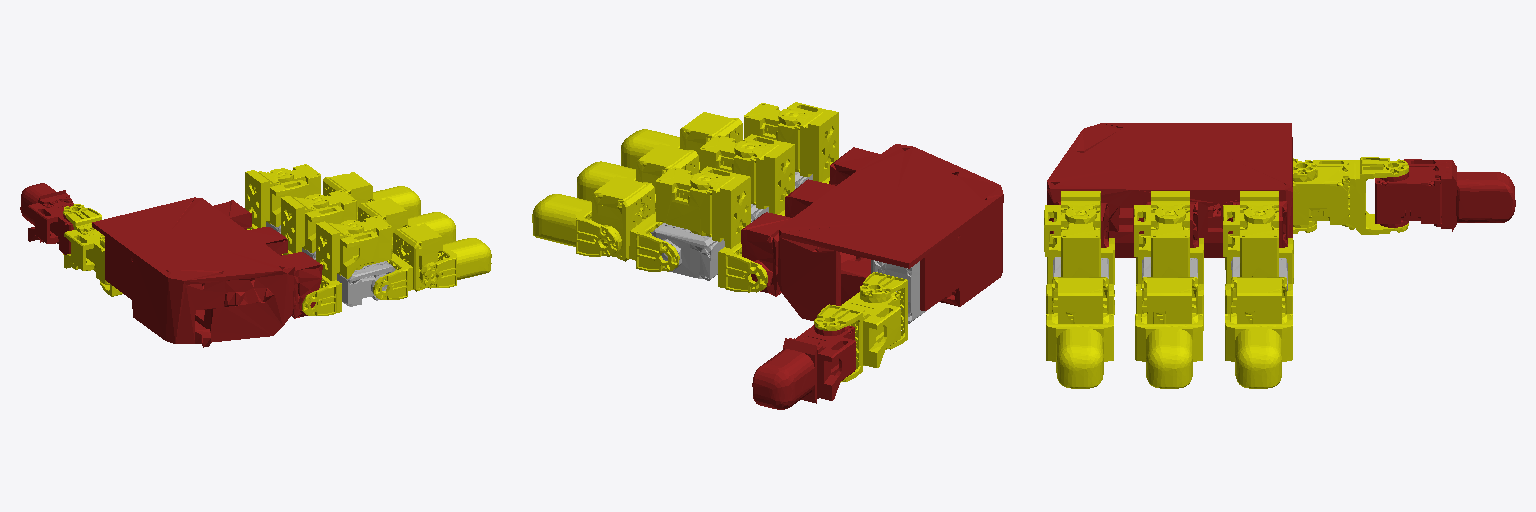
--- Facts derived from the render (not from the file) ---
The picture shows the robot from 3 angles, left to right: view 1: azimuth 30°, elevation 25°; view 2: azimuth 150°, elevation 25°; view 3: azimuth 270°, elevation 25°; orthographic projection.
Model leap with 17 links and 16 joints (16 revolute), rooted at hand_base_link, posed all joints at 0.
Visible links, largest first — view 1: hand_base_link, mcp_joint_3, dip_3, mcp_joint, mcp_joint_2, thumb_fingertip, fingertip_3, thumb_dip, pip_3, dip_2, dip, fingertip_2 (+1 smaller); view 2: hand_base_link, mcp_joint, thumb_fingertip, dip, mcp_joint_3, mcp_joint_2, thumb_dip, fingertip, pip, dip_2, dip_3, thumb_pip (+3 smaller); view 3: hand_base_link, thumb_fingertip, thumb_dip, mcp_joint_3, mcp_joint, mcp_joint_2, fingertip_3, fingertip, fingertip_2, dip_3, dip_2, dip.
Link boxes in pixels (left/top/right/bottom): hand_base_link: left=92, top=197, right=322, bottom=347; mcp_joint_3: left=302, top=216, right=391, bottom=315; dip_3: left=373, top=223, right=442, bottom=299; mcp_joint: left=245, top=164, right=320, bottom=229; mcp_joint_2: left=281, top=190, right=356, bottom=254; thumb_fingertip: left=20, top=183, right=73, bottom=254; fingertip_3: left=422, top=238, right=491, bottom=288; thumb_dip: left=63, top=204, right=109, bottom=284; pip_3: left=337, top=261, right=395, bottom=306; dip_2: left=358, top=198, right=407, bottom=240; dip: left=323, top=172, right=372, bottom=214; fingertip_2: left=392, top=212, right=455, bottom=253; hand_base_link: left=741, top=144, right=1003, bottom=320; mcp_joint: left=656, top=166, right=767, bottom=292; thumb_fingertip: left=752, top=324, right=855, bottom=409; dip: left=592, top=176, right=679, bottom=271; mcp_joint_3: left=744, top=102, right=838, bottom=183; mcp_joint_2: left=700, top=134, right=794, bottom=215; thumb_dip: left=814, top=292, right=900, bottom=382; fingertip: left=532, top=194, right=641, bottom=256; pip: left=651, top=223, right=724, bottom=280; dip_2: left=636, top=144, right=698, bottom=196; dip_3: left=680, top=112, right=742, bottom=164; thumb_pip: left=860, top=272, right=907, bottom=349; hand_base_link: left=1047, top=123, right=1292, bottom=257; thumb_fingertip: left=1375, top=159, right=1515, bottom=231; thumb_dip: left=1293, top=157, right=1408, bottom=234; mcp_joint_3: left=1044, top=191, right=1114, bottom=284; mcp_joint: left=1223, top=191, right=1293, bottom=283; mcp_joint_2: left=1134, top=191, right=1203, bottom=288; fingertip_3: left=1046, top=314, right=1113, bottom=388; fingertip: left=1225, top=314, right=1292, bottom=388; fingertip_2: left=1135, top=314, right=1202, bottom=388; dip_3: left=1046, top=277, right=1114, bottom=323; dip_2: left=1136, top=277, right=1203, bottom=330; dip: left=1225, top=277, right=1292, bottom=323.
Size in the robot's own frame: 0.2325 by 0.2396 by 0.0632 metres.
17 mesh visuals loaded from 8 distinct referenced files (8 binary STL).

robot.urdf — leap:
<robot name="leap">
  <link name="hand_base_link">
    <visual>
      <origin xyz="-0.020095249652862544332 0.025757756134899473244 -0.034722403578460216134" rpy="0 -0 0" />
      <geometry>
        <mesh filename="package://robot_models/meshes/leap_simplified/palm_lower.stl"/>
      </geometry>
      <material name="palm_lower_material">
        <color rgba="0.60392156862745094426 0.14901960784313725283 0.14901960784313725283 1.0"/>
      </material>
    </visual>
    <collision>
      <origin xyz="-0.04859524965286255 -0.03710692886510053 -0.011722403528460216" rpy="0 -0 0" />
      <geometry>
        <box size="0.10300000000000001 0.12572937 0.0460000001"/>
      </geometry>
    </collision>
    <inertial>
      <origin xyz="0 0 0" rpy="0 0 0"/>
      <mass value="0.237" />
      <inertia ixx="0.000354094" ixy="-0.000001193" ixz="-0.000002445" iyy="0.000260915" iyz="-0.000002905" izz="0.000529257" />
    </inertial>
  </link>

  <link name="mcp_joint">
    <visual>
      <origin xyz="0.0084069022611744960438 0.0077662438597169954416 0.014657354985032912051" rpy="1.6375789613220999807e-15 -1.0210473302491019535e-30 1.7177968783327987474e-31" />
      <geometry>
        <mesh filename="package://robot_models/meshes/leap_simplified/mcp_joint.stl"/>
      </geometry>
      <material name="mcp_joint_material">
        <color rgba="0.86666666666666669627 0.86666666666666669627 0.050980392156862744391 1.0"/>
      </material>
    </visual>
    <collision>
      <origin xyz="-0.027217272738825505 0.039799998859716995 0.018749999985032913" rpy="1.6375789613220999807e-15 -1.0210473302491019535e-30 1.7177968783327987474e-31" />
      <geometry>
        <box size="0.031565449999999995 0.04559999 0.02850001"/>
      </geometry>
    </collision>
    <collision>
      <origin xyz="0 0.006531743859716996 0.014499999985032912" rpy="1.6375789613220999807e-15 -1.0210473302491019535e-30 1.7177968783327987474e-31" />
      <geometry>
        <box size="0.02 0.02893652 0.03459999"/>
      </geometry>
    </collision>
    <inertial>
      <origin xyz="0 0 0" rpy="0 0 0"/>
      <mass value="0.044" />
      <inertia ixx="0.000011499" ixy="0.000003049" ixz="0.000000121" iyy="0.000007796" iyz="0.000000112" izz="0.000014759" />
    </inertial>
  </link>

  <link name="pip">
    <visual>
      <origin xyz="0.0096433630922713280131 0.00029999999999998951117 0.00078403401041737645627" rpy="-1.570796326794896558 -1.570796326794896336 0" />
      <geometry>
        <mesh filename="package://robot_models/meshes/leap_simplified/pip.stl"/>
      </geometry>
      <material name="pip_material">
        <color rgba="0.74901960784313725839 0.74901960784313725839 0.74901960784313725839 1.0"/>
      </material>
    </visual>
    <collision>
      <origin xyz="0.007500003092271327 0.0002999999999999894 -0.011499995989582625" rpy="-1.570796326794896558 -1.570796326794896336 0" />
      <geometry>
        <box size="0.023 0.034 0.0295309"/>
      </geometry>
    </collision>
    <inertial>
      <origin xyz="0 0 0" rpy="0 0 0"/>
      <mass value="0.032" />
      <inertia ixx="0.000004798" ixy="0.000000012" ixz="0.000000004" iyy="0.000002862" iyz="0.000000011" izz="0.000004234" />
    </inertial>
  </link>

  <link name="dip">
    <visual>
      <origin xyz="0.021133352895225002849 -0.0084321191467048792201 0.0097850881620952408213" rpy="-3.141592653589793116 4.5075111242164408299e-32 4.4395481053923607589e-32" />
      <geometry>
        <mesh filename="package://robot_models/meshes/leap_simplified/dip.stl"/>
      </geometry>
      <material name="dip_material">
        <color rgba="0.86666666666666669627 0.86666666666666669627 0.050980392156862744391 1.0"/>
      </material>
    </visual>
    <collision>
      <origin xyz="0.007500002895225002 -0.03459999914670488 0.014200003162095238" rpy="-3.141592653589793116 4.5075111242164408299e-32 4.4395481053923607589e-32" />
      <geometry>
        <box size="0.034 0.023 0.02953089"/>
      </geometry>
    </collision>
    <collision>
      <origin xyz="2.8952250007152625e-09 -0.00759779914670488 0.01449999816209524" rpy="-3.141592653589793116 4.5075111242164408299e-32 4.4395481053923607589e-32" />
      <geometry>
        <box size="0.02 0.03106864 0.0346"/>
      </geometry>
    </collision>
    <inertial>
      <origin xyz="0 0 0" rpy="0 0 0"/>
      <mass value="0.037" />
      <inertia ixx="0.000005542" ixy="-0.000000607" ixz="-0.000000017" iyy="0.000005727" iyz="-0.000000023" izz="0.000006682" />
    </inertial>
  </link>

  <link name="fingertip">
    <visual>
      <origin xyz="0.013286424108533503169 -0.0061142383865419869249 0.014499999999999497666" rpy="3.141592653589793116 1.1993117970061734707e-33 4.4395481053923607589e-32" />
      <geometry>
        <mesh filename="package://robot_models/meshes/leap_simplified/fingertip.stl"/>
      </geometry>
      <material name="fingertip_material">
        <color rgba="0.86666666666666669627 0.86666666666666669627 0.050980392156862744391 1.0"/>
      </material>
    </visual>
    <collision>
      <origin xyz="-0.000799055891466496 -0.03481634338654199 0.014499999999999501" rpy="3.141592653589793116 1.1993117970061734707e-33 4.4395481053923607589e-32" />
      <geometry>
        <box size="0.02059812 0.02936731 0.024"/>
      </geometry>
    </collision>
    <collision>
      <origin xyz="-0.00021593089146649744 -0.006088858386541987 0.014499999999999498" rpy="3.141592653589793116 1.1993117970061734707e-33 4.4395481053923607589e-32" />
      <geometry>
        <box size="0.020431869999999998 0.02805076 0.0346"/>
      </geometry>
    </collision>
    <inertial>
      <origin xyz="0 0 0" rpy="0 0 0"/>
      <mass value="0.016" />
      <inertia ixx="1.9179185288481334e-05" ixy="0" ixz="0" iyy="1.3337100633792e-05" iyz="0" izz="1.7156285922273336e-05" />
    </inertial>
  </link>



  <link name="mcp_joint_2">
    <visual>
      <origin xyz="0.0084069022611744960438 0.0077662438597169954416 0.014657354985032912051" rpy="1.6375789613220999807e-15 -1.0210473302491019535e-30 1.7177968783327987474e-31" />
      <geometry>
        <mesh filename="package://robot_models/meshes/leap_simplified/mcp_joint.stl"/>
      </geometry>
      <material name="mcp_joint_material">
        <color rgba="0.86666666666666669627 0.86666666666666669627 0.050980392156862744391 1.0"/>
      </material>
    </visual>
    <collision>
      <origin xyz="-0.027217272738825505 0.039799998859716995 0.018749999985032913" rpy="1.6375789613220999807e-15 -1.0210473302491019535e-30 1.7177968783327987474e-31" />
      <geometry>
        <box size="0.031565449999999995 0.04559999 0.02850001"/>
      </geometry>
    </collision>
    <collision>
      <origin xyz="0 0.006531743859716996 0.014499999985032912" rpy="1.6375789613220999807e-15 -1.0210473302491019535e-30 1.7177968783327987474e-31" />
      <geometry>
        <box size="0.02 0.02893652 0.03459999"/>
      </geometry>
    </collision>
    <inertial>
      <origin xyz="0 0 0" rpy="0 0 0"/>
      <mass value="0.044" />
      <inertia ixx="0.000011499" ixy="0.000003049" ixz="0.000000121" iyy="0.000007796" iyz="0.000000112" izz="0.000014759" />
    </inertial>
  </link>

  <link name="pip_2">
    <visual>
      <origin xyz="0.0096433630922713280131 0.00029999999999998951117 0.00078403401041737645627" rpy="-1.570796326794896558 -1.570796326794896336 0" />
      <geometry>
        <mesh filename="package://robot_models/meshes/leap_simplified/pip.stl"/>
      </geometry>
      <material name="pip_material">
        <color rgba="0.74901960784313725839 0.74901960784313725839 0.74901960784313725839 1.0"/>
      </material>
    </visual>
    <collision>
      <origin xyz="0.007500003092271327 0.0002999999999999894 -0.011499995989582625" rpy="-1.570796326794896558 -1.570796326794896336 0" />
      <geometry>
        <box size="0.023 0.034 0.0295309"/>
      </geometry>
    </collision>
    <inertial>
      <origin xyz="0 0 0" rpy="0 0 0"/>
      <mass value="0.032" />
      <inertia ixx="0.000004798" ixy="0.000000012" ixz="0.000000004" iyy="0.000002862" iyz="0.000000011" izz="0.000004234" />
    </inertial>
  </link>

  <link name="dip_2">
    <visual>
      <origin xyz="0.021133352895225002849 -0.0084321191467048792201 0.0097850881620952408213" rpy="-3.141592653589793116 4.5075111242164408299e-32 4.4395481053923607589e-32" />
      <geometry>
        <mesh filename="package://robot_models/meshes/leap_simplified/dip.stl"/>
      </geometry>
      <material name="dip_material">
        <color rgba="0.86666666666666669627 0.86666666666666669627 0.050980392156862744391 1.0"/>
      </material>
    </visual>
    <collision>
      <origin xyz="0.007500002895225002 -0.03459999914670488 0.014200003162095238" rpy="-3.141592653589793116 4.5075111242164408299e-32 4.4395481053923607589e-32" />
      <geometry>
        <box size="0.034 0.023 0.02953089"/>
      </geometry>
    </collision>
    <collision>
      <origin xyz="2.8952250007152625e-09 -0.00759779914670488 0.01449999816209524" rpy="-3.141592653589793116 4.5075111242164408299e-32 4.4395481053923607589e-32" />
      <geometry>
        <box size="0.02 0.03106864 0.0346"/>
      </geometry>
    </collision>
    <inertial>
      <origin xyz="0 0 0" rpy="0 0 0"/>
      <mass value="0.037" />
      <inertia ixx="0.000005542" ixy="-0.000000607" ixz="-0.000000017" iyy="0.000005727" iyz="-0.000000023" izz="0.000006682" />
    </inertial>
  </link>

  <link name="fingertip_2">
    <visual>
      <origin xyz="0.013286424108533503169 -0.0061142383865419869249 0.014499999999999497666" rpy="3.141592653589793116 1.1993117970061734707e-33 4.4395481053923607589e-32" />
      <geometry>
        <mesh filename="package://robot_models/meshes/leap_simplified/fingertip.stl"/>
      </geometry>
      <material name="fingertip_material">
        <color rgba="0.86666666666666669627 0.86666666666666669627 0.050980392156862744391 1.0"/>
      </material>
    </visual>
    <collision>
      <origin xyz="-0.000799055891466496 -0.03481634338654199 0.014499999999999501" rpy="3.141592653589793116 1.1993117970061734707e-33 4.4395481053923607589e-32" />
      <geometry>
        <box size="0.02059812 0.02936731 0.024"/>
      </geometry>
    </collision>
    <collision>
      <origin xyz="-0.00021593089146649744 -0.006088858386541987 0.014499999999999498" rpy="3.141592653589793116 1.1993117970061734707e-33 4.4395481053923607589e-32" />
      <geometry>
        <box size="0.020431869999999998 0.02805076 0.0346"/>
      </geometry>
    </collision>
    <inertial>
      <origin xyz="0 0 0" rpy="0 0 0"/>
      <mass value="0.016" />
      <inertia ixx="1.9179185288481334e-05" ixy="0" ixz="0" iyy="1.3337100633792e-05" iyz="0" izz="1.7156285922273336e-05" />
    </inertial>
  </link>



  <link name="mcp_joint_3">
    <visual>
      <origin xyz="0.0084069022611744960438 0.0077662438597169954416 0.014657354985032912051" rpy="1.6375789613220999807e-15 -1.0210473302491019535e-30 1.7177968783327987474e-31" />
      <geometry>
        <mesh filename="package://robot_models/meshes/leap_simplified/mcp_joint.stl"/>
      </geometry>
      <material name="mcp_joint_material">
        <color rgba="0.86666666666666669627 0.86666666666666669627 0.050980392156862744391 1.0"/>
      </material>
    </visual>
    <collision>
      <origin xyz="-0.027217272738825505 0.039799998859716995 0.018749999985032913" rpy="1.6375789613220999807e-15 -1.0210473302491019535e-30 1.7177968783327987474e-31" />
      <geometry>
        <box size="0.031565449999999995 0.04559999 0.02850001"/>
      </geometry>
    </collision>
    <collision>
      <origin xyz="0 0.006531743859716996 0.014499999985032912" rpy="1.6375789613220999807e-15 -1.0210473302491019535e-30 1.7177968783327987474e-31" />
      <geometry>
        <box size="0.02 0.02893652 0.03459999"/>
      </geometry>
    </collision>
    <inertial>
      <origin xyz="0 0 0" rpy="0 0 0"/>
      <mass value="0.044" />
      <inertia ixx="0.000011499" ixy="0.000003049" ixz="0.000000121" iyy="0.000007796" iyz="0.000000112" izz="0.000014759" />
    </inertial>
  </link>

  <link name="pip_3">
    <visual>
      <origin xyz="0.0096433630922713280131 0.00029999999999998951117 0.00078403401041737645627" rpy="-1.570796326794896558 -1.570796326794896336 0" />
      <geometry>
        <mesh filename="package://robot_models/meshes/leap_simplified/pip.stl"/>
      </geometry>
      <material name="pip_material">
        <color rgba="0.74901960784313725839 0.74901960784313725839 0.74901960784313725839 1.0"/>
      </material>
    </visual>
    <collision>
      <origin xyz="0.007500003092271327 0.0002999999999999894 -0.011499995989582625" rpy="-1.570796326794896558 -1.570796326794896336 0" />
      <geometry>
        <box size="0.023 0.034 0.0295309"/>
      </geometry>
    </collision>
    <inertial>
      <origin xyz="0 0 0" rpy="0 0 0"/>
      <mass value="0.032" />
      <inertia ixx="0.000004798" ixy="0.000000012" ixz="0.000000004" iyy="0.000002862" iyz="0.000000011" izz="0.000004234" />
    </inertial>
  </link>

  <link name="dip_3">
    <visual>
      <origin xyz="0.021133352895225002849 -0.0084321191467048792201 0.0097850881620952408213" rpy="-3.141592653589793116 4.5075111242164408299e-32 4.4395481053923607589e-32" />
      <geometry>
        <mesh filename="package://robot_models/meshes/leap_simplified/dip.stl"/>
      </geometry>
      <material name="dip_material">
        <color rgba="0.86666666666666669627 0.86666666666666669627 0.050980392156862744391 1.0"/>
      </material>
    </visual>
    <collision>
      <origin xyz="0.007500002895225002 -0.03459999914670488 0.014200003162095238" rpy="-3.141592653589793116 4.5075111242164408299e-32 4.4395481053923607589e-32" />
      <geometry>
        <box size="0.034 0.023 0.02953089"/>
      </geometry>
    </collision>
    <collision>
      <origin xyz="2.8952250007152625e-09 -0.00759779914670488 0.01449999816209524" rpy="-3.141592653589793116 4.5075111242164408299e-32 4.4395481053923607589e-32" />
      <geometry>
        <box size="0.02 0.03106864 0.0346"/>
      </geometry>
    </collision>
    <inertial>
      <origin xyz="0 0 0" rpy="0 0 0"/>
      <mass value="0.037" />
      <inertia ixx="0.000005542" ixy="-0.000000607" ixz="-0.000000017" iyy="0.000005727" iyz="-0.000000023" izz="0.000006682" />
    </inertial>
  </link>

  <link name="fingertip_3">
    <visual>
      <origin xyz="0.013286424108533503169 -0.0061142383865419869249 0.014499999999999497666" rpy="3.141592653589793116 1.1993117970061734707e-33 4.4395481053923607589e-32" />
      <geometry>
        <mesh filename="package://robot_models/meshes/leap_simplified/fingertip.stl"/>
      </geometry>
      <material name="fingertip_material">
        <color rgba="0.86666666666666669627 0.86666666666666669627 0.050980392156862744391 1.0"/>
      </material>
    </visual>
    <collision>
      <origin xyz="-0.000799055891466496 -0.03481634338654199 0.014499999999999501" rpy="3.141592653589793116 1.1993117970061734707e-33 4.4395481053923607589e-32" />
      <geometry>
        <box size="0.02059812 0.02936731 0.024"/>
      </geometry>
    </collision>
    <collision>
      <origin xyz="-0.00021593089146649744 -0.006088858386541987 0.014499999999999498" rpy="3.141592653589793116 1.1993117970061734707e-33 4.4395481053923607589e-32" />
      <geometry>
        <box size="0.020431869999999998 0.02805076 0.0346"/>
      </geometry>
    </collision>
    <inertial>
      <origin xyz="0 0 0" rpy="0 0 0"/>
      <mass value="0.016" />
      <inertia ixx="1.9179185288481334e-05" ixy="0" ixz="0" iyy="1.3337100633792e-05" iyz="0" izz="1.7156285922273336e-05" />
    </inertial>
  </link>



  <link name="pip_4">
    <visual>
      <origin xyz="-0.0053566369077286714317 0.00029999999999999991951 0.00078403401041737819099" rpy="-1.570796326794896558 -1.570796326794896336 0" />
      <geometry>
        <mesh filename="package://robot_models/meshes/leap_simplified/pip.stl"/>
      </geometry>
      <material name="pip_material">
        <color rgba="0.74901960784313725839 0.74901960784313725839 0.74901960784313725839 1.0"/>
      </material>
    </visual>
    <collision>
      <origin xyz="-0.007499996907728673 0.0002999999999999998 -0.011499995989582623" rpy="-1.570796326794896558 -1.570796326794896336 0" />
      <geometry>
        <box size="0.023 0.034 0.0295309"/>
      </geometry>
    </collision>
    <inertial>
      <origin xyz="0 0 0" rpy="0 0 0"/>
      <mass value="0.032" />
      <inertia ixx="0.000004798" ixy="0.000000012" ixz="0.000000004" iyy="0.000002862" iyz="0.000000011" izz="0.000004234" />
    </inertial>
  </link>

  <link name="thumb_pip">
    <visual>
      <origin xyz="0.011961920770611186859 -5.3082538364890297089e-16 -0.015852648956664199681" rpy="1.570796326794896558 0 0" />
      <geometry>
        <mesh filename="package://robot_models/meshes/leap_simplified/thumb_pip.stl"/>
      </geometry>
      <material name="thumb_pip_material">
        <color rgba="0.86666666666666669627 0.86666666666666669627 0.050980392156862744391 1.0"/>
      </material>
    </visual>
    <collision>
      <origin xyz="7.706111877087141e-10 -5.306181495298747e-16 -0.0124682589566642" rpy="1.570796326794896558 0 0" />
      <geometry>
        <box size="0.02 0.02493652 0.0346"/>
      </geometry>
    </collision>
    <inertial>
      <origin xyz="0 0 0" rpy="0 0 0"/>
      <mass value="0.003" />
      <inertia ixx="0.000000593" ixy="0" ixz="0" iyy="0.000000549" iyz="0" izz="0.000000224" />
    </inertial>
  </link>

  <link name="thumb_dip">
    <visual>
      <origin xyz="0.043968715707239175439 0.057952952973709198625 -0.0086286764493694757122" rpy="1.9428902930940098942e-16 3.2751579226442200773e-15 0" />
      <geometry>
        <mesh filename="package://robot_models/meshes/leap_simplified/thumb_dip.stl"/>
      </geometry>
      <material name="thumb_dip_material">
        <color rgba="0.86666666666666669627 0.86666666666666669627 0.050980392156862744391 1.0"/>
      </material>
    </visual>
    <collision>
      <origin xyz="-0.004250004292760824 0.0225182629737092 -0.014299996449369475" rpy="1.9428902930940098942e-16 3.2751579226442200773e-15 0" />
      <geometry>
        <box size="0.028499999999999998 0.06403652 0.0346"/>
      </geometry>
    </collision>
    <inertial>
      <origin xyz="0 0 0" rpy="0 0 0"/>
      <mass value="0.038" />
      <inertia ixx="0.000008474" ixy="0.000000241" ixz="0.000000026" iyy="0.000003841" iyz="0.000000025" izz="0.000007679" />
    </inertial>
  </link>

  <link name="thumb_fingertip">
    <visual>
      <origin xyz="0.062559538462667388381 0.078459682911396988469 0.048992911807332215068" rpy="0 0 0" />
      <geometry>
        <mesh filename="package://robot_models/meshes/leap_simplified/thumb_fingertip.stl"/>
      </geometry>
      <material name="thumb_fingertip_material">
        <color rgba="0.60392156862745094426 0.14901960784313725283 0.14901960784313725283 1.0"/>
      </material>
    </visual>
    <collision>
      <origin xyz="0.0042499984626673815 -0.010049997088603019 -0.014299998192667779" rpy="0 0 0" />
      <geometry>
        <box size="0.028500000000000004 0.03910000000000001 0.032999999999999995"/>
      </geometry>
    </collision>
    <collision>
      <origin xyz="-0.0007990565373326153 -0.046100002088603015 -0.01430000319266779" rpy="0 0 0" />
      <geometry>
        <box size="0.020598110000000003 0.03200000999999998 0.024000010000000002"/>
      </geometry>
    </collision>
    <inertial>
      <origin xyz="0 0 0" rpy="0 0 0"/>
      <mass value="0.049" />
      <inertia ixx="0.000020372" ixy="-0.000000489" ixz="-0.00000003" iyy="0.000004336" iyz="-0.000000097" izz="0.000019845" />
    </inertial>
  </link>

  <joint name="j12" type="revolute">
    <origin xyz="-0.069395249652862533996 -0.0012422438651005258004 -0.021622403578460215601" rpy="0 1.5707963267948956698 0" />
    <parent link="hand_base_link" />
    <child link="pip_4" />
    <axis xyz="0 0 -1"/>
    <limit effort="0.95" velocity="8.48" lower = "-0.349" upper = "2.094"/>
  </joint>

  <joint name="j13" type="revolute">
    <origin xyz="-2.7755575615628913511e-17 0.014300000000000005415 -0.013000000000000011546" rpy="1.5707963267948958919 -1.570796326794896336 0" />
    <parent link="pip_4" />
    <child link="thumb_pip" />
    <axis xyz="0 0 -1"/>
    <limit effort="0.95" velocity="8.48" lower = "-0.47" upper = "2.443"/>
  </joint>

  <joint name="j14" type="revolute">
    <origin xyz="0 0.014499999999999966041 -0.017000000000000053263" rpy="-1.570796326794896558 0 0" />
    <parent link="thumb_pip" />
    <child link="thumb_dip" />
    <axis xyz="0 0 -1"/>
    <limit effort="0.95" velocity="8.48" lower = "-1.20" upper = "1.90"/>
  </joint>

  <joint name="j15" type="revolute">
    <origin xyz="-1.249000902703301108e-16 0.046599999999999863753 0.00019999999999997710581" rpy="0 0 3.141592653589793116" />
    <parent link="thumb_dip" />
    <child link="thumb_fingertip" />
    <axis xyz="0 0 -1"/>
    <limit effort="0.95" velocity="8.48" lower = "-1.34" upper = "1.88"/>
  </joint>

  <joint name="j0" type="revolute">
    <origin xyz="-0.012200000000000007713 0.038099999999999994982 0.014500000000000000736" rpy="-1.570796326794896558 -1.0065212660796336576e-15 1.5707963267948943376" />
    <parent link="mcp_joint" />
    <child link="pip" />
    <axis xyz="0 0 -1"/>
    <limit effort="0.95" velocity="8.48" lower = "-1.047" upper = "1.047"/>
  </joint>

  <joint name="j1" type="revolute">
    <origin xyz="-0.0070952496528625457958 0.023057756134899472233 -0.01872240357846021927" rpy="1.5707963267948950037 1.5707963267948945596 0" />
    <parent link="hand_base_link" />
    <child link="mcp_joint" />
    <axis xyz="0 0 -1"/>
    <limit effort="0.95" velocity="8.48" lower = "-0.314" upper = "2.23"/>
  </joint>

  <joint name="j2" type="revolute">
    <origin xyz="0.01499999999999996822 0.014299999999999904801 -0.012999999999999824196" rpy="1.5707963267948958919 -1.570796326794896336 0" />
    <parent link="pip" />
    <child link="dip" />
    <axis xyz="0 0 -1"/>
    <limit effort="0.95" velocity="8.48" lower = "-0.506" upper = "1.885"/>
  </joint>

  <joint name="j3" type="revolute">
    <origin xyz="-4.0880582495572692636e-09 -0.036100004210367367397 0.00020000000000007858714" rpy="4.5935029425113685044e-17 -2.8730071914463794583e-16 4.4395481053923607589e-32" />
    <parent link="dip" />
    <child link="fingertip" />
    <axis xyz="0 0 -1"/>
    <limit effort="0.95" velocity="8.48" lower = "-0.366" upper = "2.042"/>
  </joint>

  <joint name="j8" type="revolute">
    <origin xyz="-0.012200000000000004244 0.038100000000000001921 0.014499999999999999001" rpy="-1.570796326794896558 -1.0065212660796360242e-15 1.5707963267948943376" />
    <parent link="mcp_joint_3" />
    <child link="pip_3" />
    <axis xyz="0 0 -1"/>
    <limit effort="0.95" velocity="8.48" lower = "-1.047" upper = "1.047"/>
  </joint>

  <joint name="j9" type="revolute">
    <origin xyz="-0.0070952454426398371343 -0.067842243865100515521 -0.018722407666402932774" rpy="1.5707963267948950037 1.5707963267948945596 0" />
    <parent link="hand_base_link" />
    <child link="mcp_joint_3" />
    <axis xyz="0 0 -1"/>
    <limit effort="0.95" velocity="8.48" lower = "-0.314" upper = "2.23"/>
  </joint>

  <joint name="j10" type="revolute">
    <origin xyz="0.014999999999999971689 0.014299999999999951639 -0.012999999999999959505" rpy="1.5707963267948958919 -1.570796326794896336 0" />
    <parent link="pip_3" />
    <child link="dip_3" />
    <axis xyz="0 0 -1"/>
    <limit effort="0.95" velocity="8.48" lower = "-0.506" upper = "1.885"/>
  </joint>

  <joint name="j11" type="revolute">
    <origin xyz="9.7144514654701197287e-17 -0.036099999999999868305 0.00020000000000007511769" rpy="4.5935029425113685044e-17 -2.8730071914463799514e-16 1.5565411607615035382e-32" />
    <parent link="dip_3" />
    <child link="fingertip_3" />
    <axis xyz="0 0 -1"/>
    <limit effort="0.95" velocity="8.48" lower = "-0.366" upper = "2.042"/>
  </joint>

  <joint name="j4" type="revolute">
    <origin xyz="-0.012200000000000019856 0.038099999999999981104 0.01450000000000000594" rpy="-1.570796326794896558 -1.0065212760057939085e-15 1.5707963267948943376" />
    <parent link="mcp_joint_2" />
    <child link="pip_2" />
    <axis xyz="0 0 -1"/>
    <limit effort="0.95" velocity="8.48" lower = "-1.047" upper = "1.047"/>
  </joint>

  <joint name="j5" type="revolute">
    <origin xyz="-0.0070952496528625388569 -0.022392243865100525113 -0.018722403578460229678" rpy="1.570796326794896558 1.570796326794896558 0" />
    <parent link="hand_base_link" />
    <child link="mcp_joint_2" />
    <axis xyz="0 0 -1"/>
    <limit effort="0.95" velocity="8.48" lower = "-0.314" upper = "2.23"/>
  </joint>

  <joint name="j6" type="revolute">
    <origin xyz="0.014999999999999975159 0.014300000000000000211 -0.013000000000000018485" rpy="1.5707963267948958919 -1.570796326794896336 0" />
    <parent link="pip_2" />
    <child link="dip_2" />
    <axis xyz="0 0 -1"/>
    <limit effort="0.95" velocity="8.48" lower = "-0.506" upper = "1.885"/>
  </joint>

  <joint name="j7" type="revolute">
    <origin xyz="1.0061396160665481148e-16 -0.036099999999999854428 0.00020000000000007858714" rpy="4.5935029425113654229e-17 -2.8730071914463794583e-16 1.4408183216511868558e-31" />
    <parent link="dip_2" />
    <child link="fingertip_2" />
    <axis xyz="0 0 -1"/>
    <limit effort="0.95" velocity="8.48" lower = "-0.366" upper = "2.042"/>
  </joint>

</robot>
